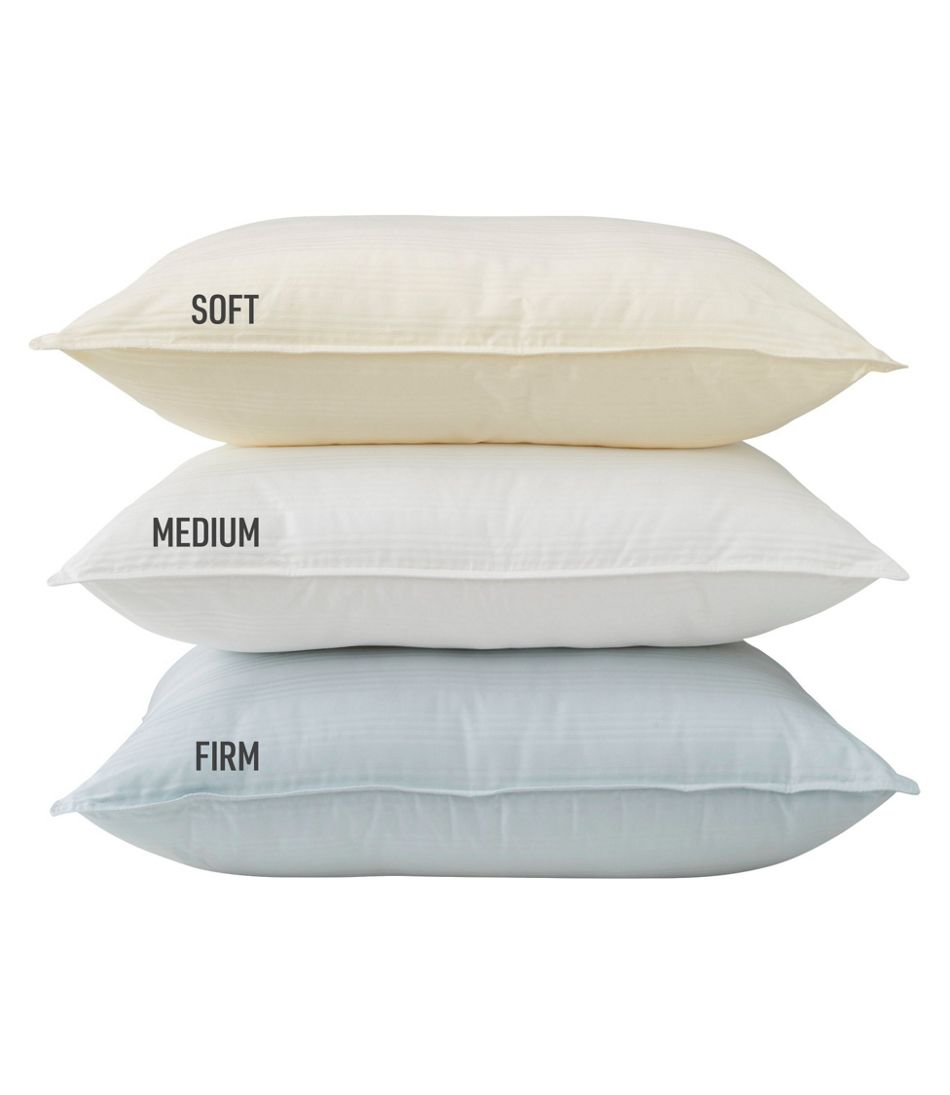bantal: (41, 217, 903, 467), (37, 428, 899, 678), (43, 650, 905, 900)
